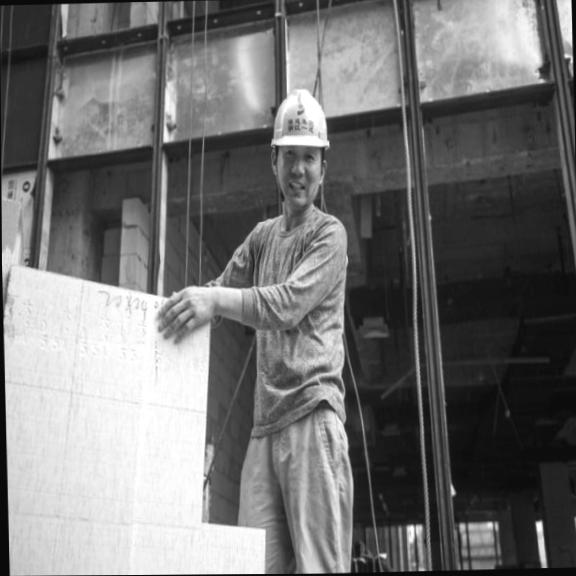no_safety_vest: (231, 203, 357, 429)
